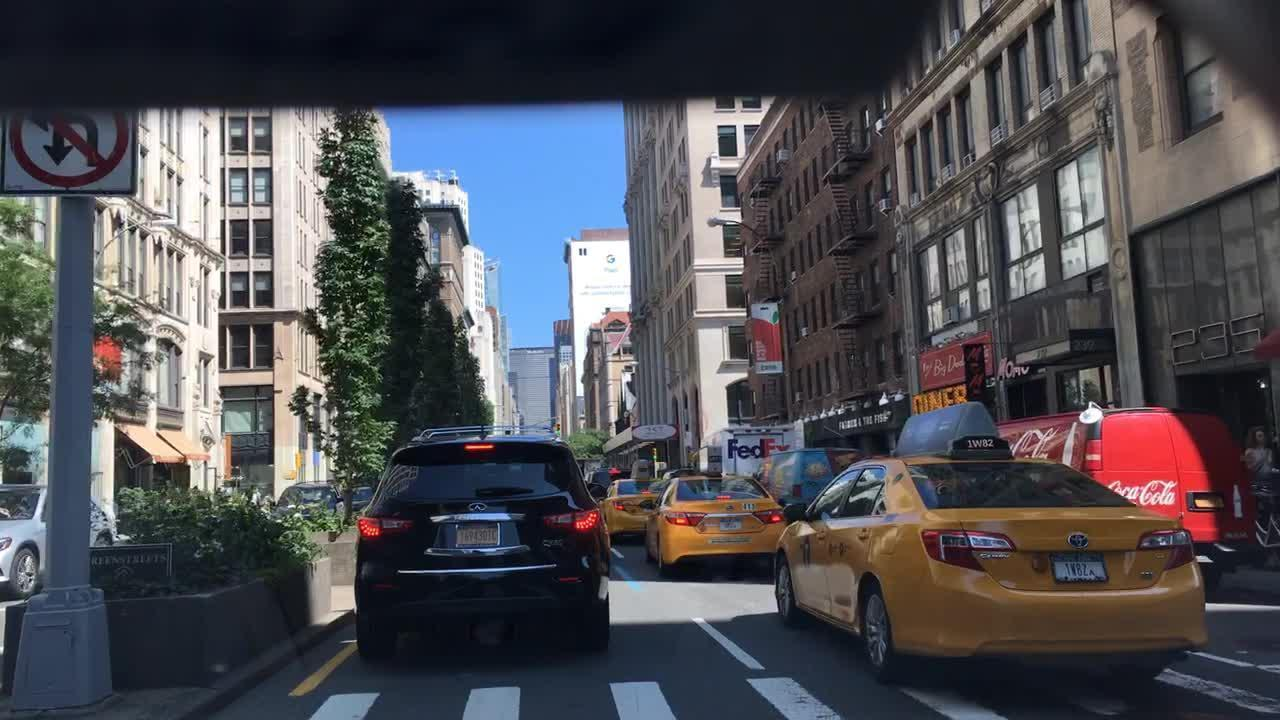Infiniti: (467, 493, 492, 513)
